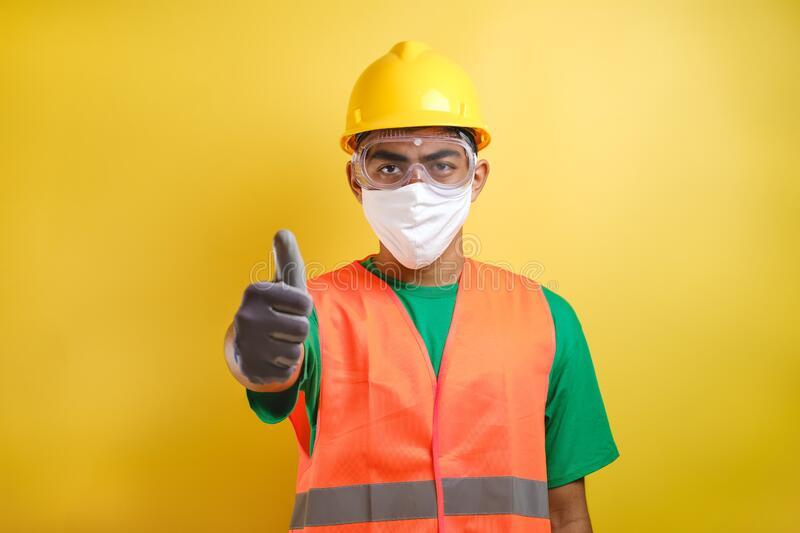hat: (330, 21, 515, 175)
vest: (282, 225, 575, 533)
